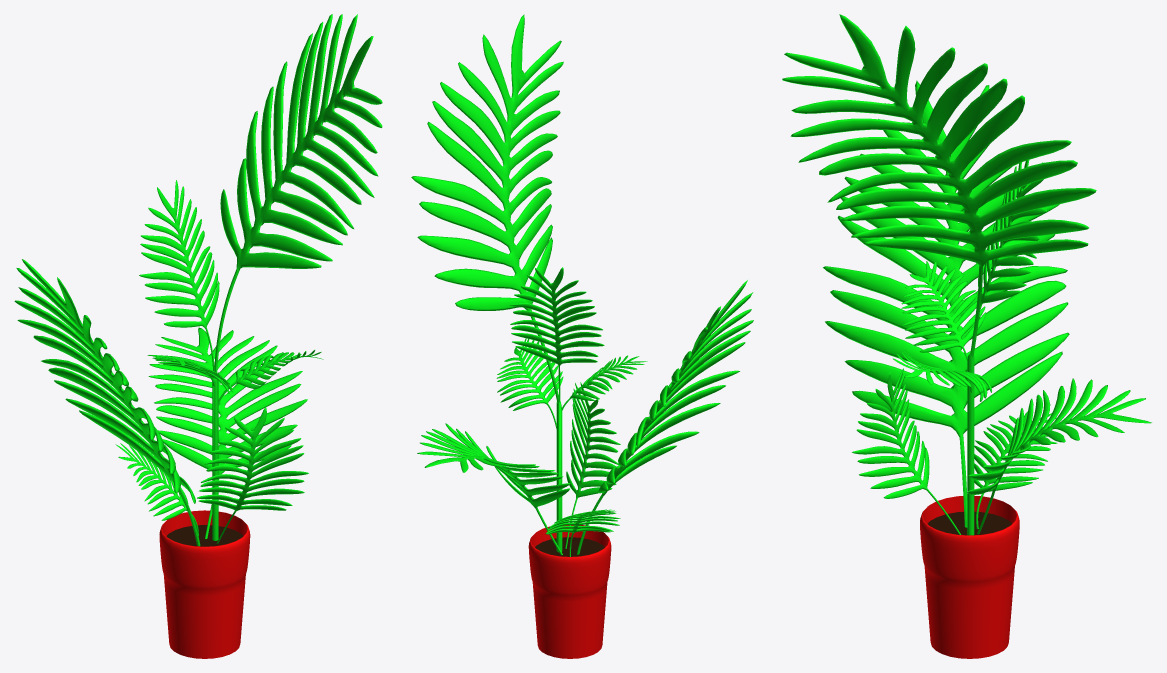
File: Plant In Pot.fbx
3 views of the same model, side by side, from view 1: azimuth 30°, elevation 25°; view 2: azimuth 150°, elevation 25°; view 3: azimuth 270°, elevation 25° (orthographic). The views are drawn at different scales.
Parts seen in each view (by area): view 1: plant; view 2: plant; view 3: plant.
Part boxes in pixels (bbox=[...]): plant: bbox=[14, 14, 382, 658]; plant: bbox=[411, 14, 753, 658]; plant: bbox=[782, 14, 1151, 658].
Bounding box in the file's own units: 81.75 × 157 × 76.93.
